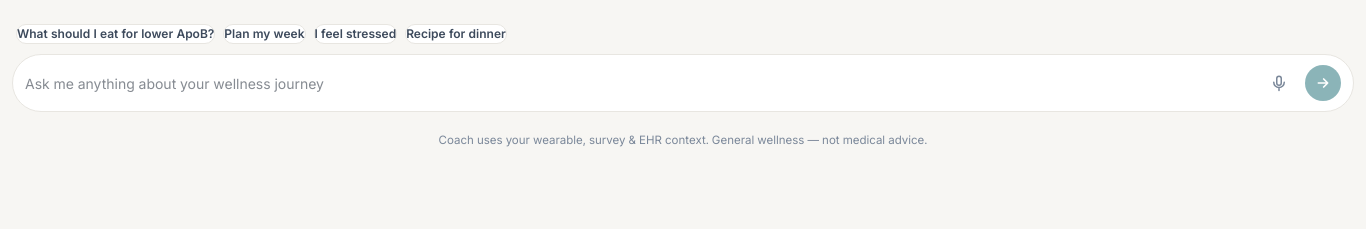
Test: CoachChat › shows an error bubble when coachChat throws
Type "Hello" into the field with placeholder "Ask me anything about your wellness journey".
click(639, 83); type("Hello")  # box [25, 72, 1253, 94]
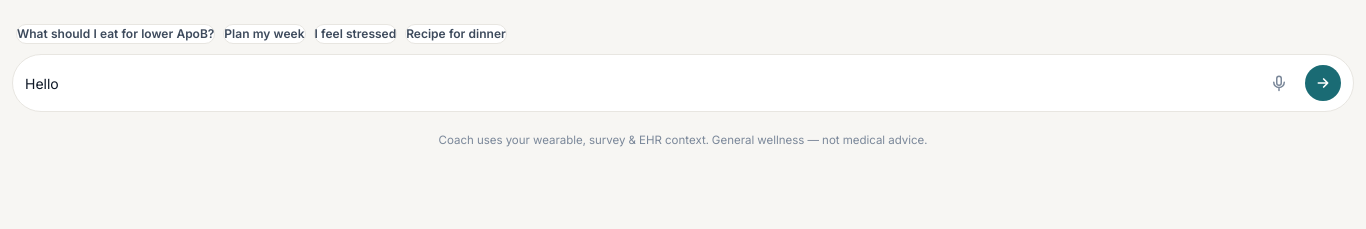
Submit the form with placeholder "ask me anything", box [12, 54, 1354, 112]
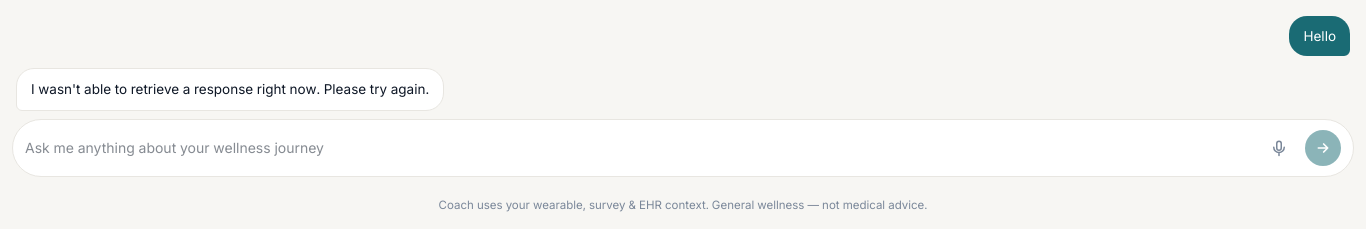
Expected: the text "wasn't able to retrieve" is shown, [31, 81, 429, 97]
